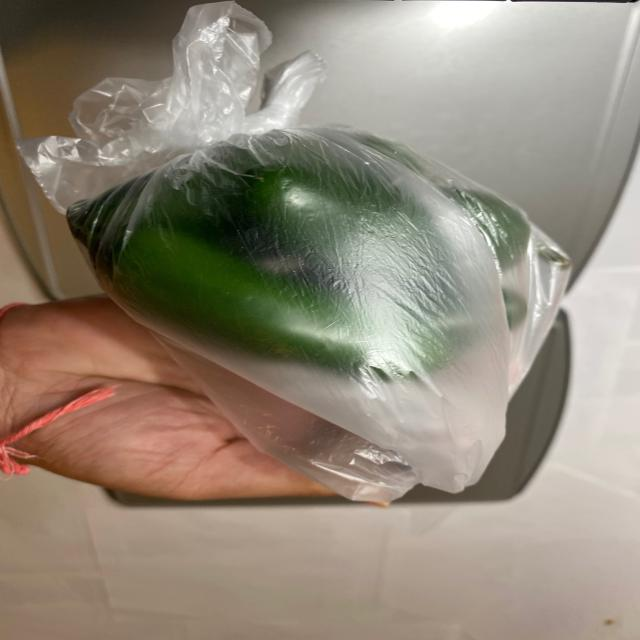chilli: (55, 130, 600, 400)
